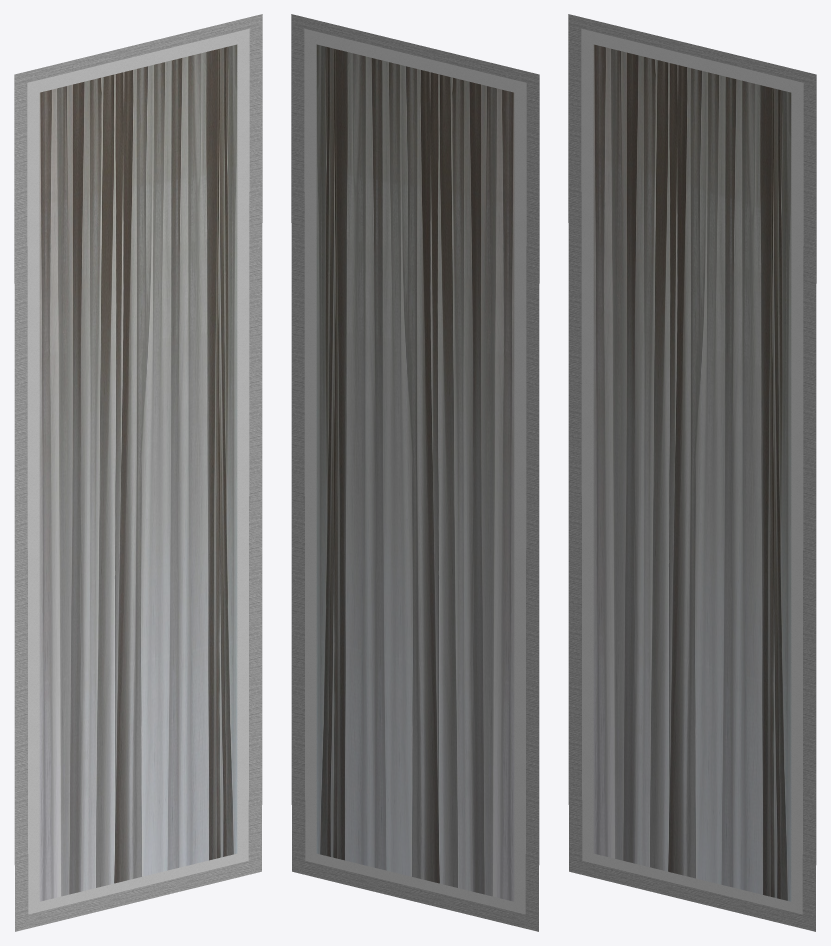
File: 1FensterBDoor.LOD.glb
3 renders of one model, left to right at view 1: azimuth 30°, elevation 25°; view 2: azimuth 150°, elevation 25°; view 3: azimuth 330°, elevation 25°, orthographic.
Visible parts, largest first — view 1: Cube.005; view 2: Cube.005; view 3: Cube.005.
Part boxes in pixels (box(x1,y1,x2,y2)): Cube.005: box(14, 14, 262, 931); Cube.005: box(291, 14, 539, 931); Cube.005: box(568, 14, 816, 931).
Bounding box in the file's own units: 1.9 × 6.26 × 0.
3 materials, 3 textured.
